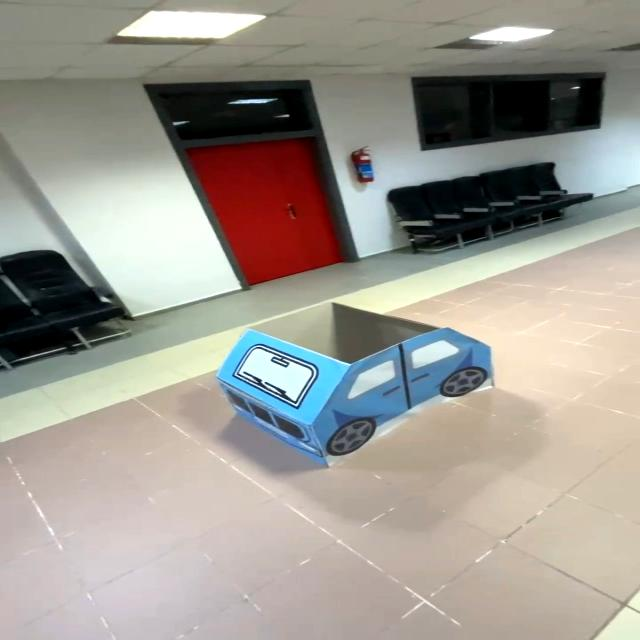blue_car: (153, 287, 552, 480)
